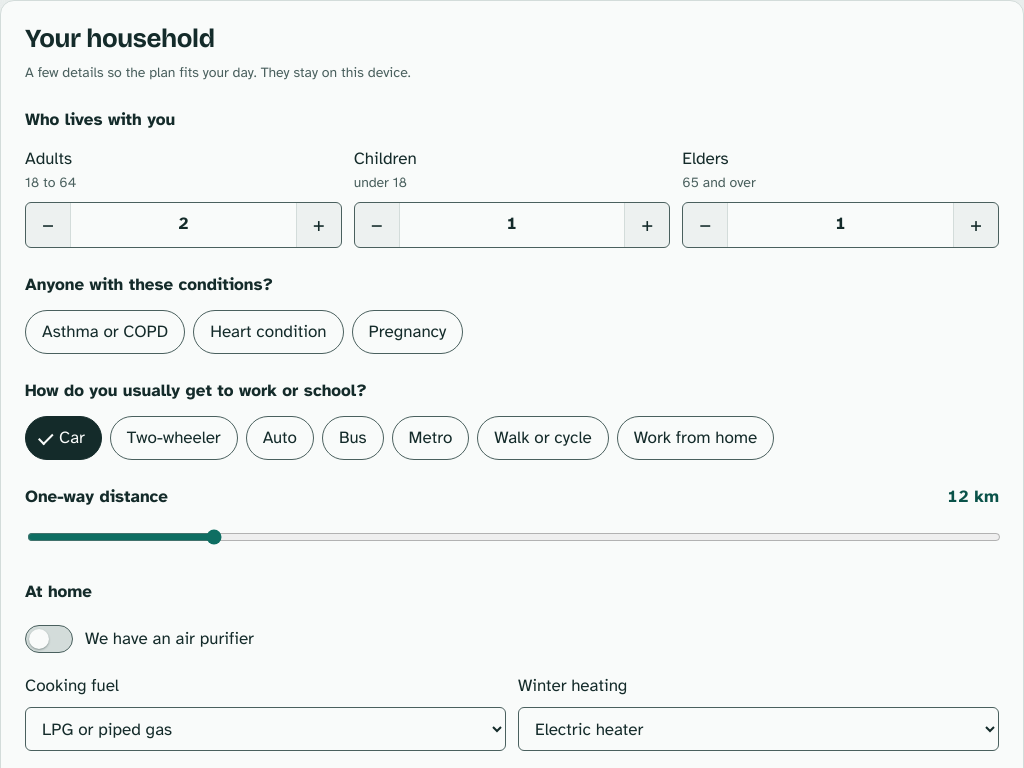
Test: HouseholdForm › does not let the adult count drop below one
Click the button named "Fewer adults" at [48, 225], box [26,203,70,247]
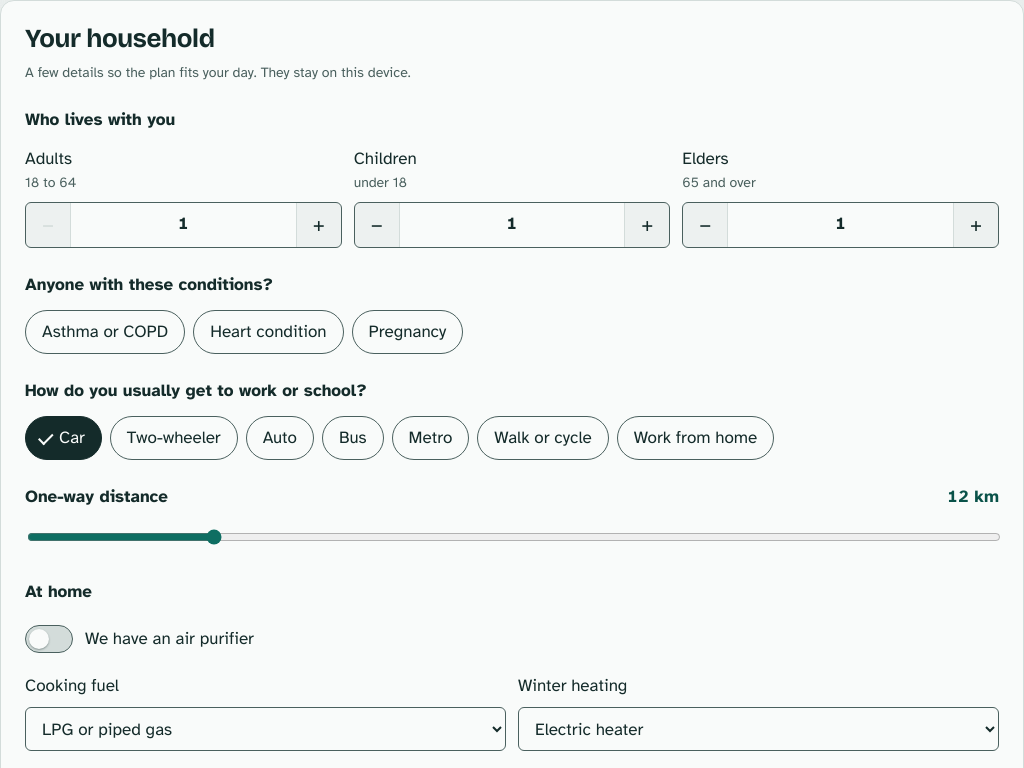
Expected: the number field labelled "Adults 18 to 64" holds "1", [70,203,297,247]
